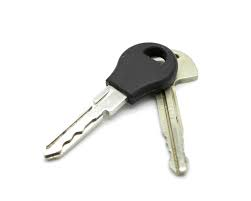key: (40, 38, 177, 160), (140, 48, 203, 176)
